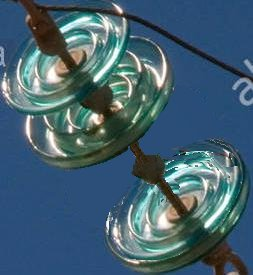gap: (22, 34, 248, 270)
